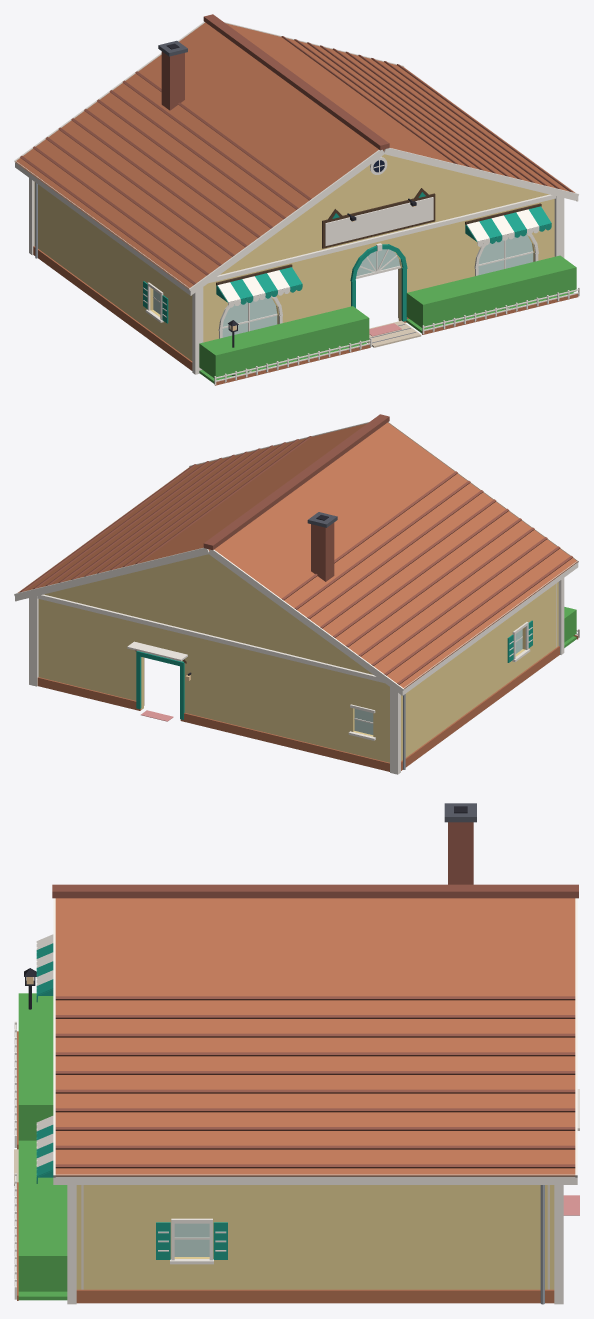
The model's file is CatCafe_Plot_Cafe_Butter_52x40.glb.
The picture shows the model from 3 angles, top to bottom: view 1: azimuth 30°, elevation 25°; view 2: azimuth 150°, elevation 25°; view 3: azimuth 270°, elevation 25°; orthographic projection. The views are drawn at different scales.
Parts seen in each view (by area): view 1: CatCafe_Plot_Cafe_Butter_52x40_Roof, CatCafe_Plot_Cafe_Butter_52x40_Paint, CatCafe_Plot_Cafe_Butter_52x40_Fireflies, CatCafe_Plot_Cafe_Butter_52x40_Trim, CatCafe_Plot_Cafe_Butter_52x40_Roof_Trim, CatCafe_Plot_Cafe_Butter_52x40_Awning, CatCafe_Plot_Cafe_Butter_52x40_Glass, CatCafe_Plot_Cafe_Butter_52x40, CatCafe_Plot_Cafe_Butter_52x40_Garden, CatCafe_Plot_Cafe_Butter_52x40_SignBoard, CatCafe_Plot_Cafe_Butter_52x40_Path, CatCafe_Plot_Cafe_Butter_52x40_Flowers; view 2: CatCafe_Plot_Cafe_Butter_52x40_Roof, CatCafe_Plot_Cafe_Butter_52x40_Paint, CatCafe_Plot_Cafe_Butter_52x40_Trim, CatCafe_Plot_Cafe_Butter_52x40_Roof_Trim, CatCafe_Plot_Cafe_Butter_52x40, CatCafe_Plot_Cafe_Butter_52x40_Glass; view 3: CatCafe_Plot_Cafe_Butter_52x40_Roof, CatCafe_Plot_Cafe_Butter_52x40_Paint, CatCafe_Plot_Cafe_Butter_52x40_Fireflies, CatCafe_Plot_Cafe_Butter_52x40, CatCafe_Plot_Cafe_Butter_52x40_Roof_Trim, CatCafe_Plot_Cafe_Butter_52x40_Trim, CatCafe_Plot_Cafe_Butter_52x40_Awning, CatCafe_Plot_Cafe_Butter_52x40_Garden, CatCafe_Plot_Cafe_Butter_52x40_Glass, CatCafe_Plot_Cafe_Butter_52x40_Wallpaper.
Part boxes in pixels (left/top/right/bottom): CatCafe_Plot_Cafe_Butter_52x40_Roof: left=15, top=14, right=574, bottom=288; CatCafe_Plot_Cafe_Butter_52x40_Paint: left=34, top=154, right=554, bottom=360; CatCafe_Plot_Cafe_Butter_52x40_Fireflies: left=199, top=255, right=576, bottom=378; CatCafe_Plot_Cafe_Butter_52x40_Trim: left=29, top=156, right=564, bottom=374; CatCafe_Plot_Cafe_Butter_52x40_Roof_Trim: left=14, top=21, right=578, bottom=295; CatCafe_Plot_Cafe_Butter_52x40_Awning: left=216, top=206, right=551, bottom=307; CatCafe_Plot_Cafe_Butter_52x40_Glass: left=153, top=234, right=533, bottom=337; CatCafe_Plot_Cafe_Butter_52x40: left=33, top=160, right=533, bottom=370; CatCafe_Plot_Cafe_Butter_52x40_Garden: left=214, top=287, right=579, bottom=385; CatCafe_Plot_Cafe_Butter_52x40_SignBoard: left=325, top=197, right=433, bottom=245; CatCafe_Plot_Cafe_Butter_52x40_Path: left=367, top=320, right=421, bottom=347; CatCafe_Plot_Cafe_Butter_52x40_Flowers: left=199, top=292, right=573, bottom=383; CatCafe_Plot_Cafe_Butter_52x40_Roof: left=18, top=414, right=577, bottom=688; CatCafe_Plot_Cafe_Butter_52x40_Paint: left=38, top=554, right=558, bottom=762; CatCafe_Plot_Cafe_Butter_52x40_Trim: left=29, top=578, right=564, bottom=774; CatCafe_Plot_Cafe_Butter_52x40_Roof_Trim: left=14, top=422, right=578, bottom=695; CatCafe_Plot_Cafe_Butter_52x40: left=37, top=620, right=559, bottom=771; CatCafe_Plot_Cafe_Butter_52x40_Glass: left=354, top=629, right=522, bottom=734; CatCafe_Plot_Cafe_Butter_52x40_Roof: left=52, top=803, right=578, bottom=1176; CatCafe_Plot_Cafe_Butter_52x40_Paint: left=76, top=1185, right=554, bottom=1289; CatCafe_Plot_Cafe_Butter_52x40_Fireflies: left=18, top=993, right=67, bottom=1291; CatCafe_Plot_Cafe_Butter_52x40: left=76, top=1185, right=579, bottom=1304; CatCafe_Plot_Cafe_Butter_52x40_Roof_Trim: left=53, top=898, right=577, bottom=1184; CatCafe_Plot_Cafe_Butter_52x40_Trim: left=67, top=1089, right=579, bottom=1304; CatCafe_Plot_Cafe_Butter_52x40_Awning: left=36, top=934, right=53, bottom=1183; CatCafe_Plot_Cafe_Butter_52x40_Garden: left=14, top=968, right=36, bottom=1300; CatCafe_Plot_Cafe_Butter_52x40_Glass: left=174, top=1223, right=209, bottom=1256; CatCafe_Plot_Cafe_Butter_52x40_Wallpaper: left=81, top=1185, right=549, bottom=1289.
Bounding box in the file's own units: 57.86 × 29.13 × 48.8.
Materials: 1 (1 with a texture image).
